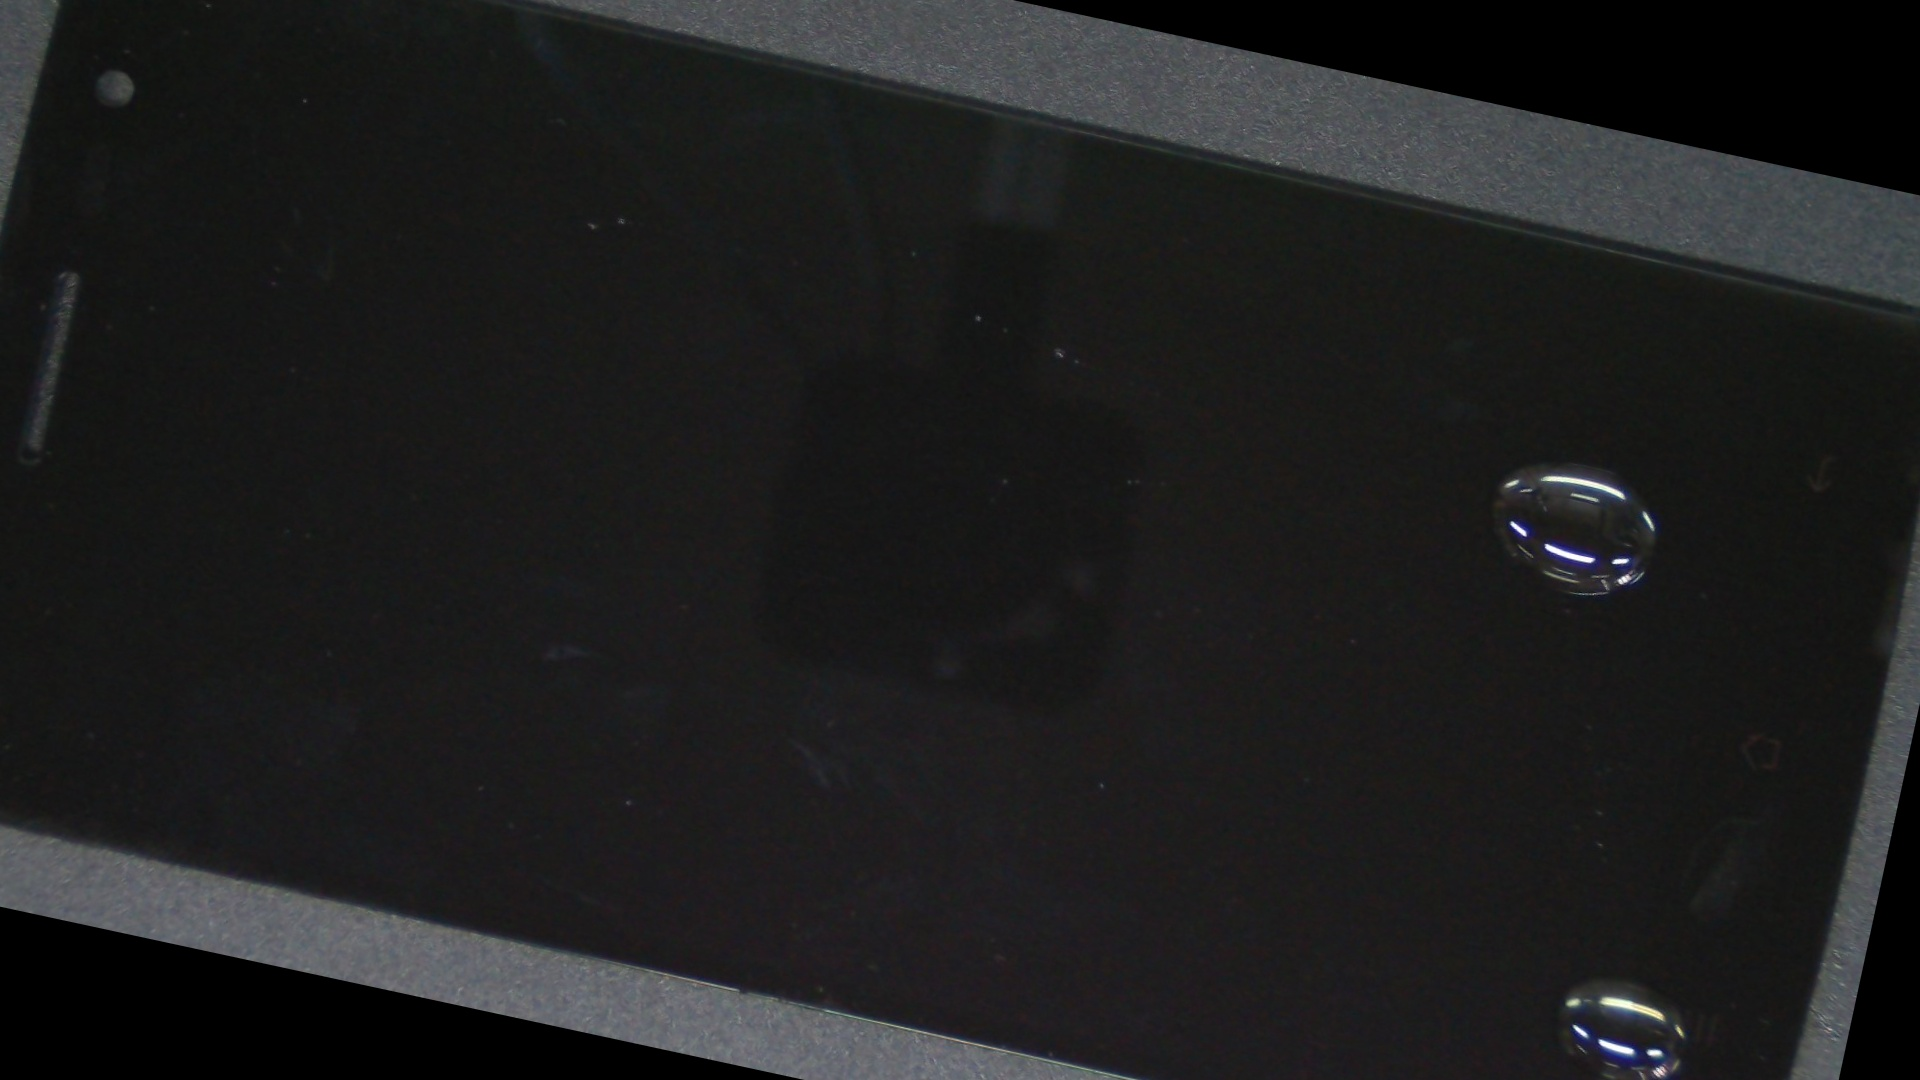oil: (676, 382, 1920, 1080), (727, 124, 1920, 709)
